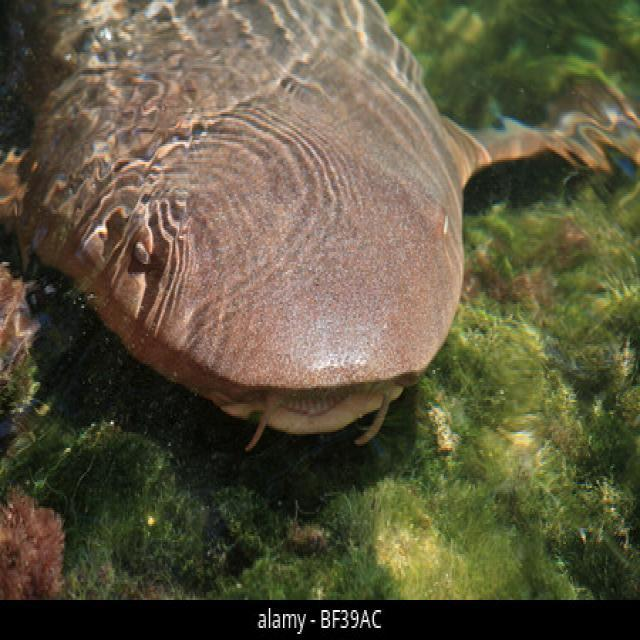Shark: (22, 0, 572, 458)
